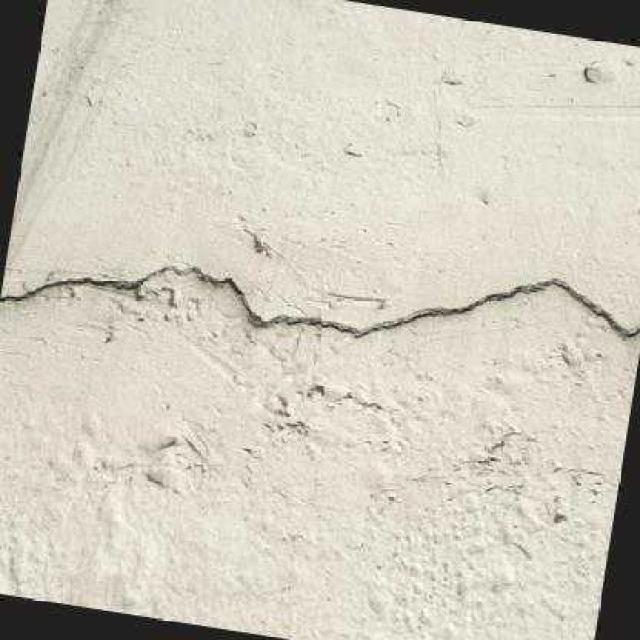D00: (0, 265, 616, 339), (618, 328, 640, 338)
